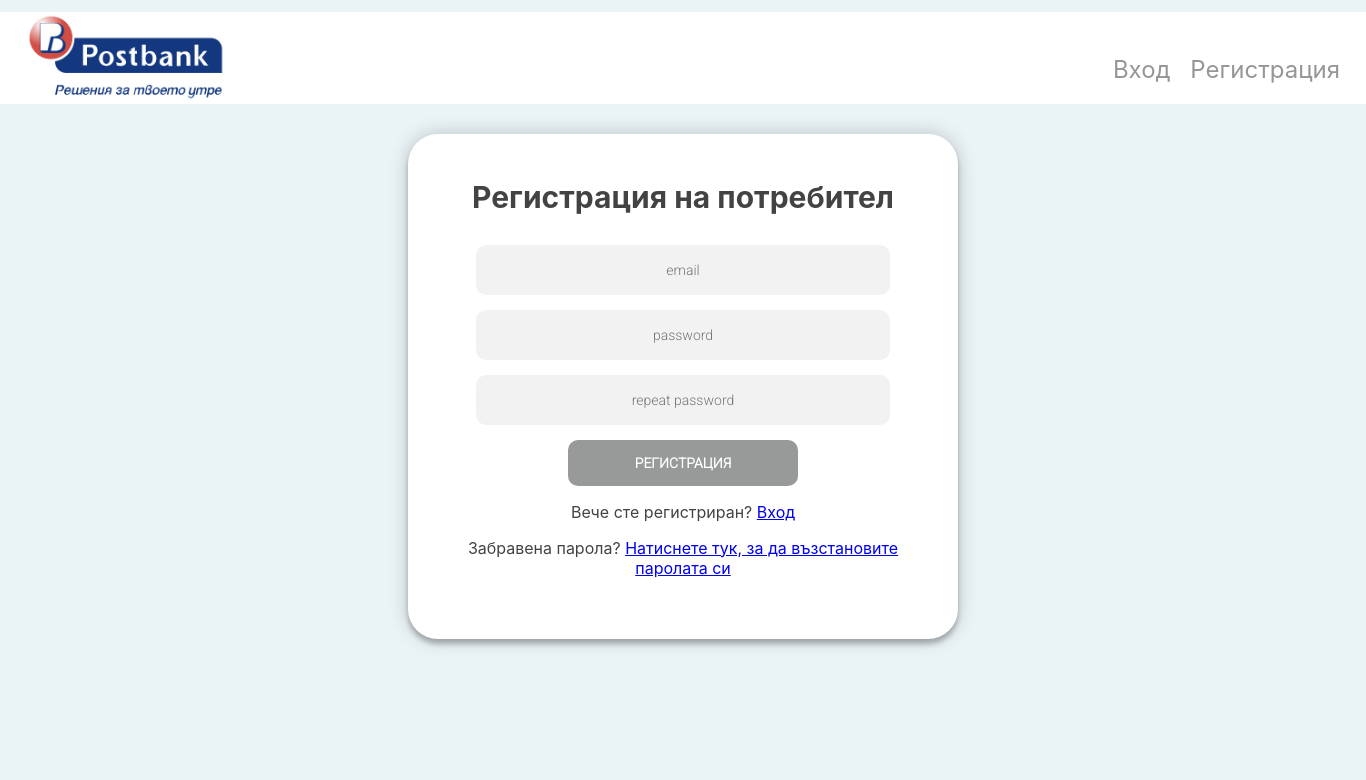
Check register form submit with password in bad format
# Change the Email
In the field with placeholder "email": (683, 270) top-left (476, 245), bottom-right (890, 295), type "ndimov@postbank.bg"
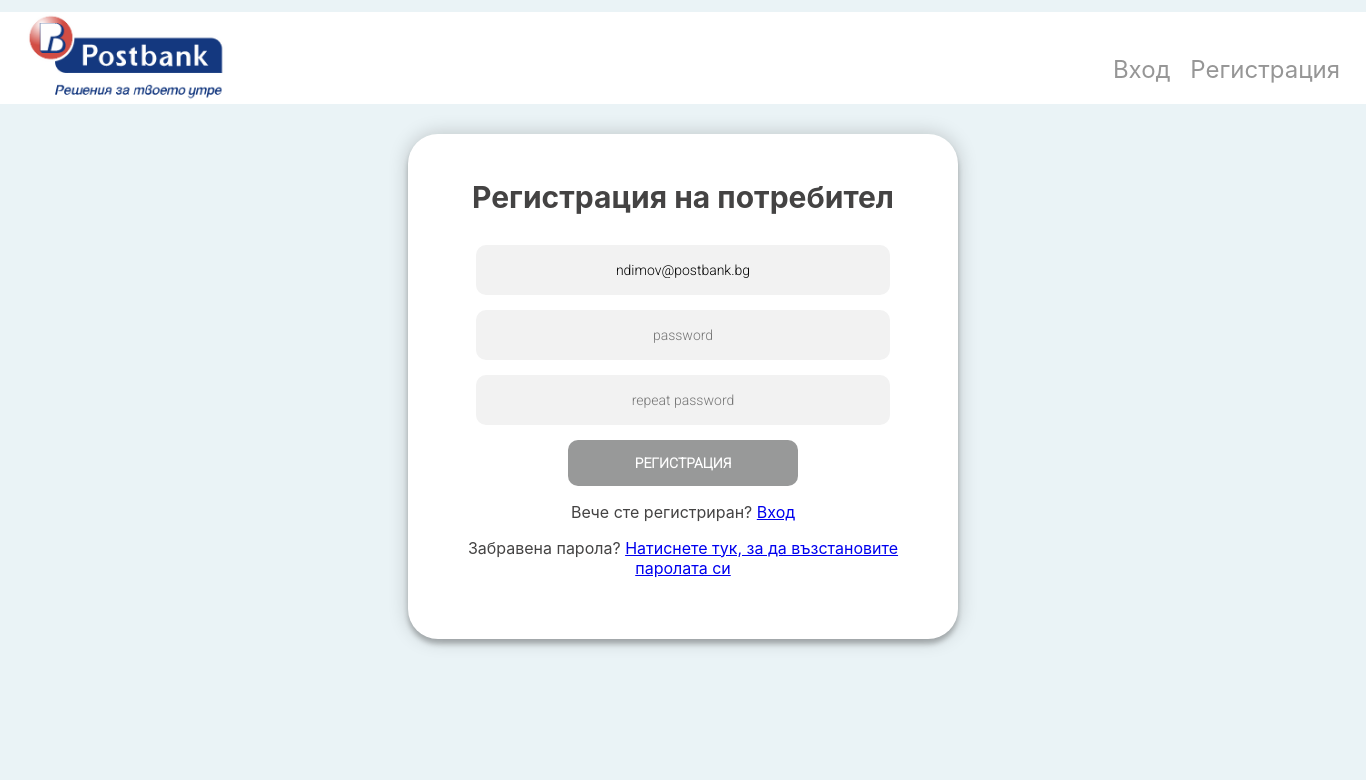
# Change the password
In the password field with placeholder "password": (683, 335) top-left (476, 310), bottom-right (890, 360), type "12"
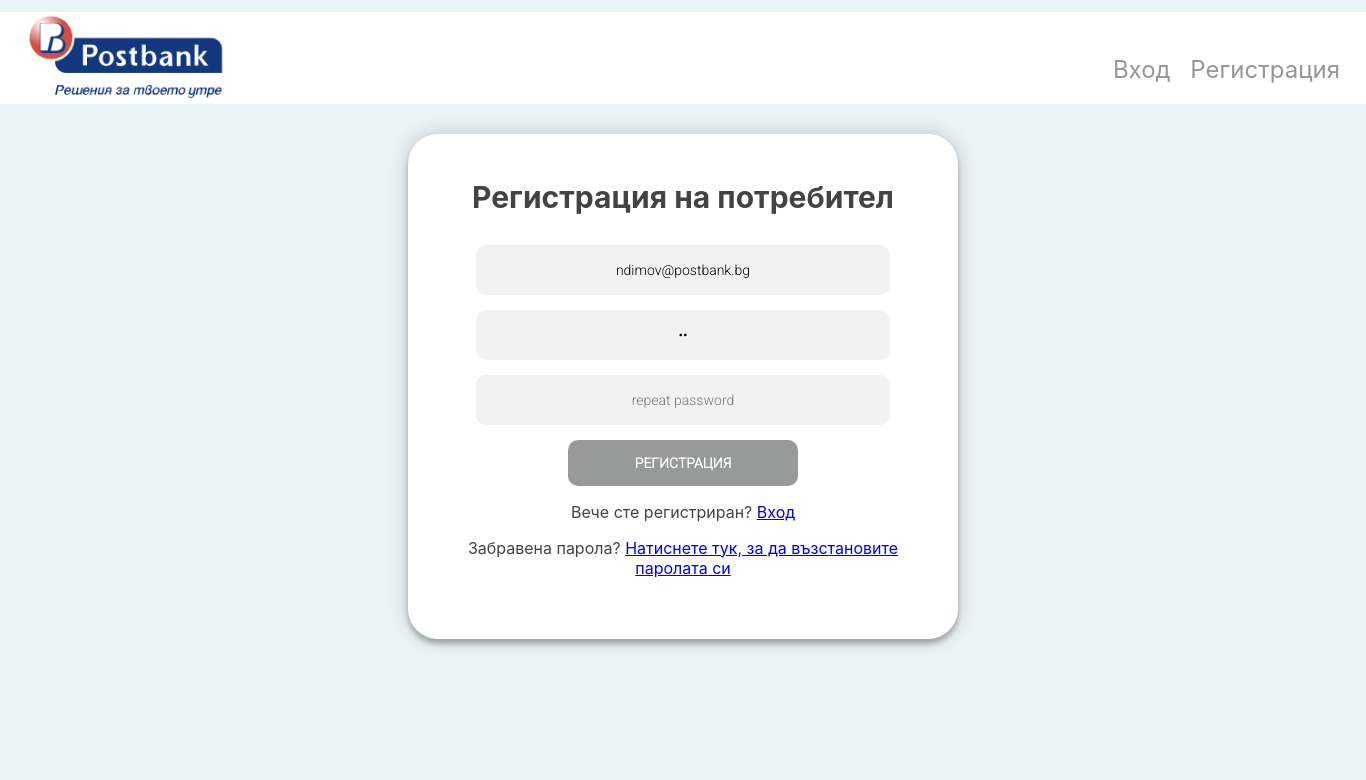
# Change the repeat paasword
In the password field with placeholder "repeat password": (683, 400) top-left (476, 375), bottom-right (890, 425), type "123"
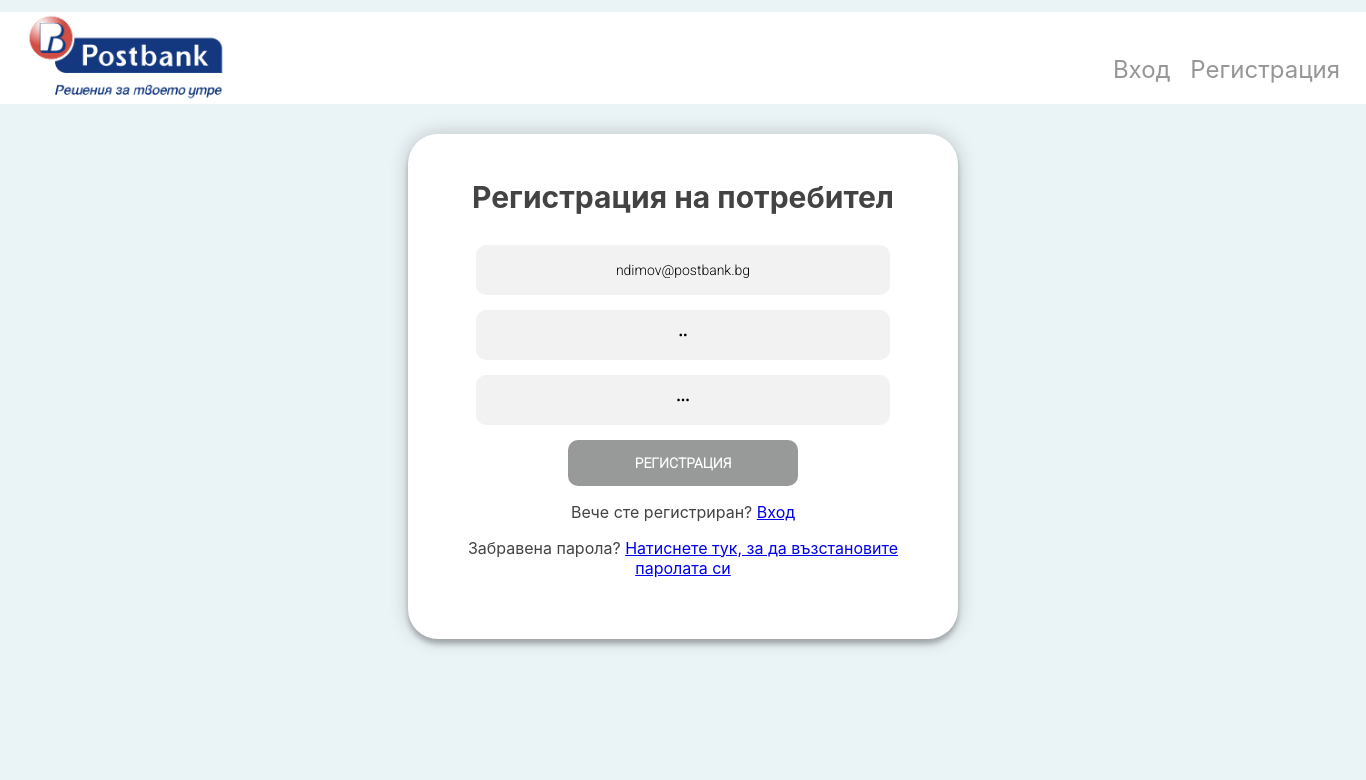
Click the button "Регистрация": (683, 463) top-left (568, 440), bottom-right (798, 486)
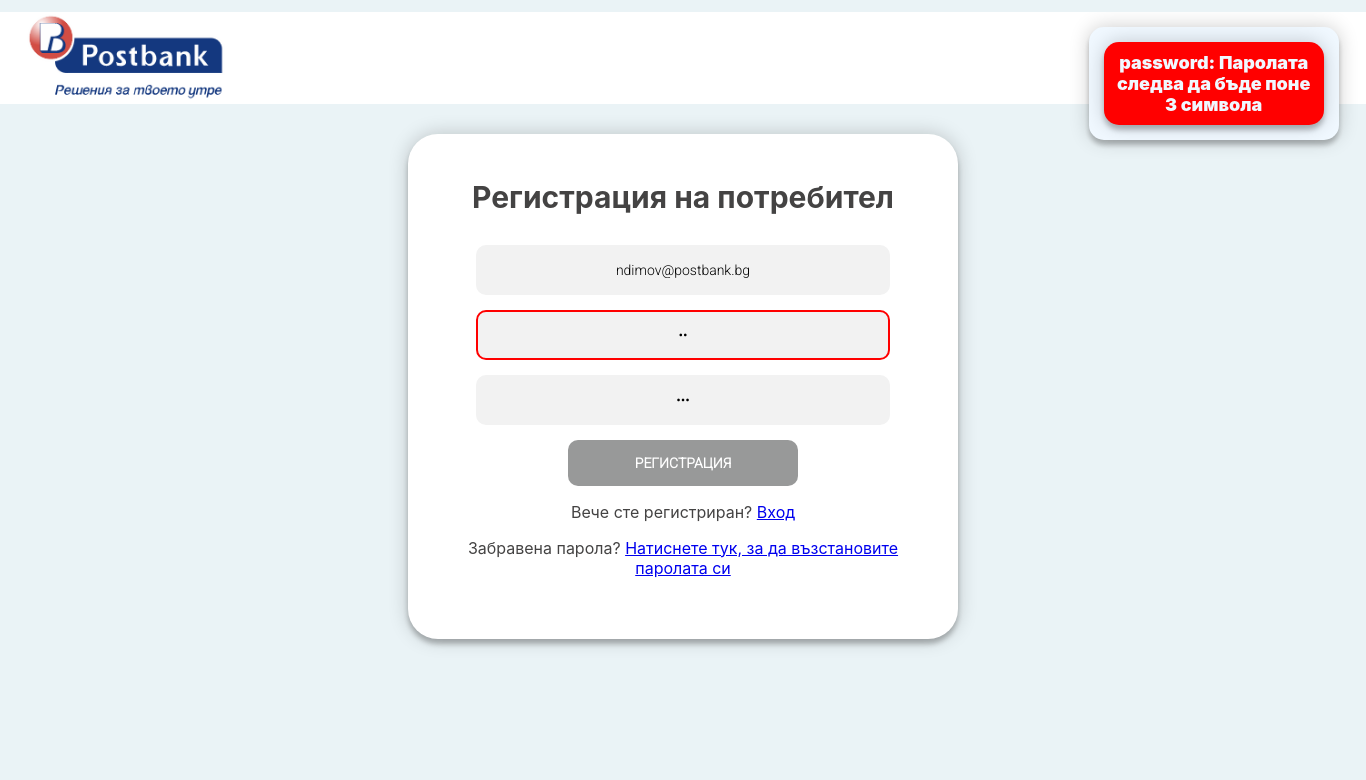
Check: the text "password: Паролата следва да бъде поне 3 символа" is shown, box top-left (1114, 52), bottom-right (1314, 115)
